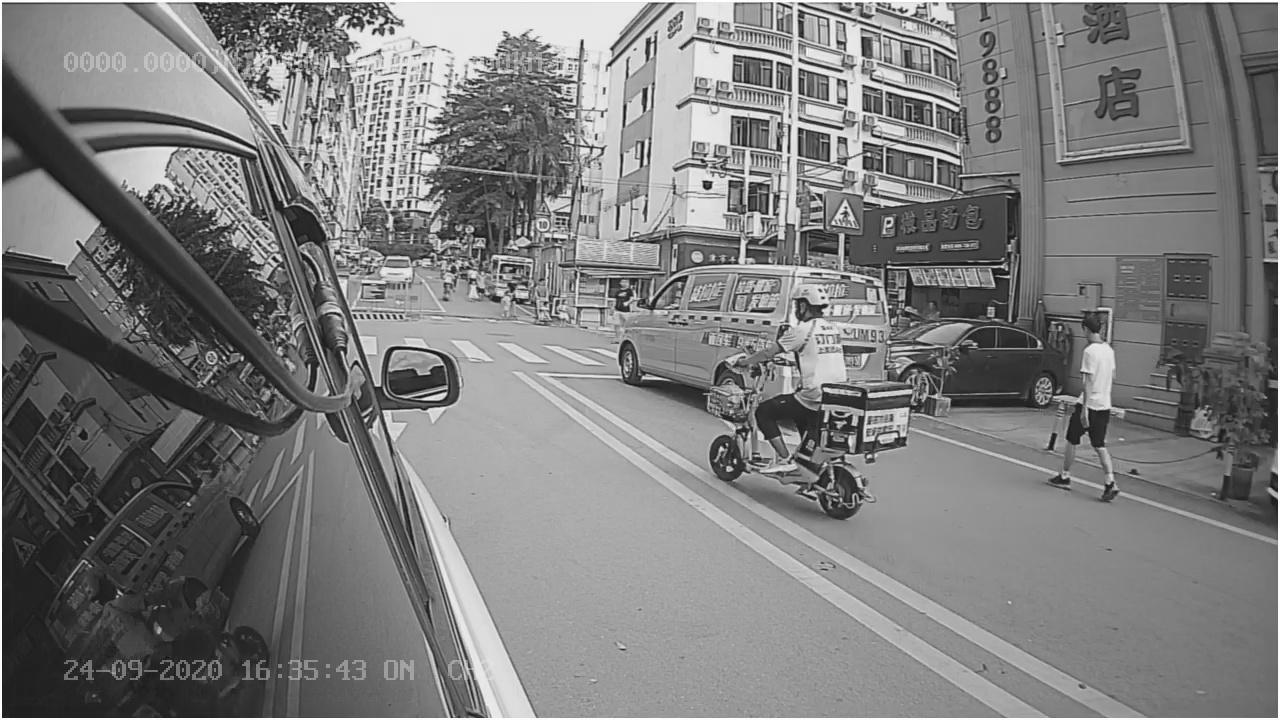person: (1036, 304, 1137, 508)
